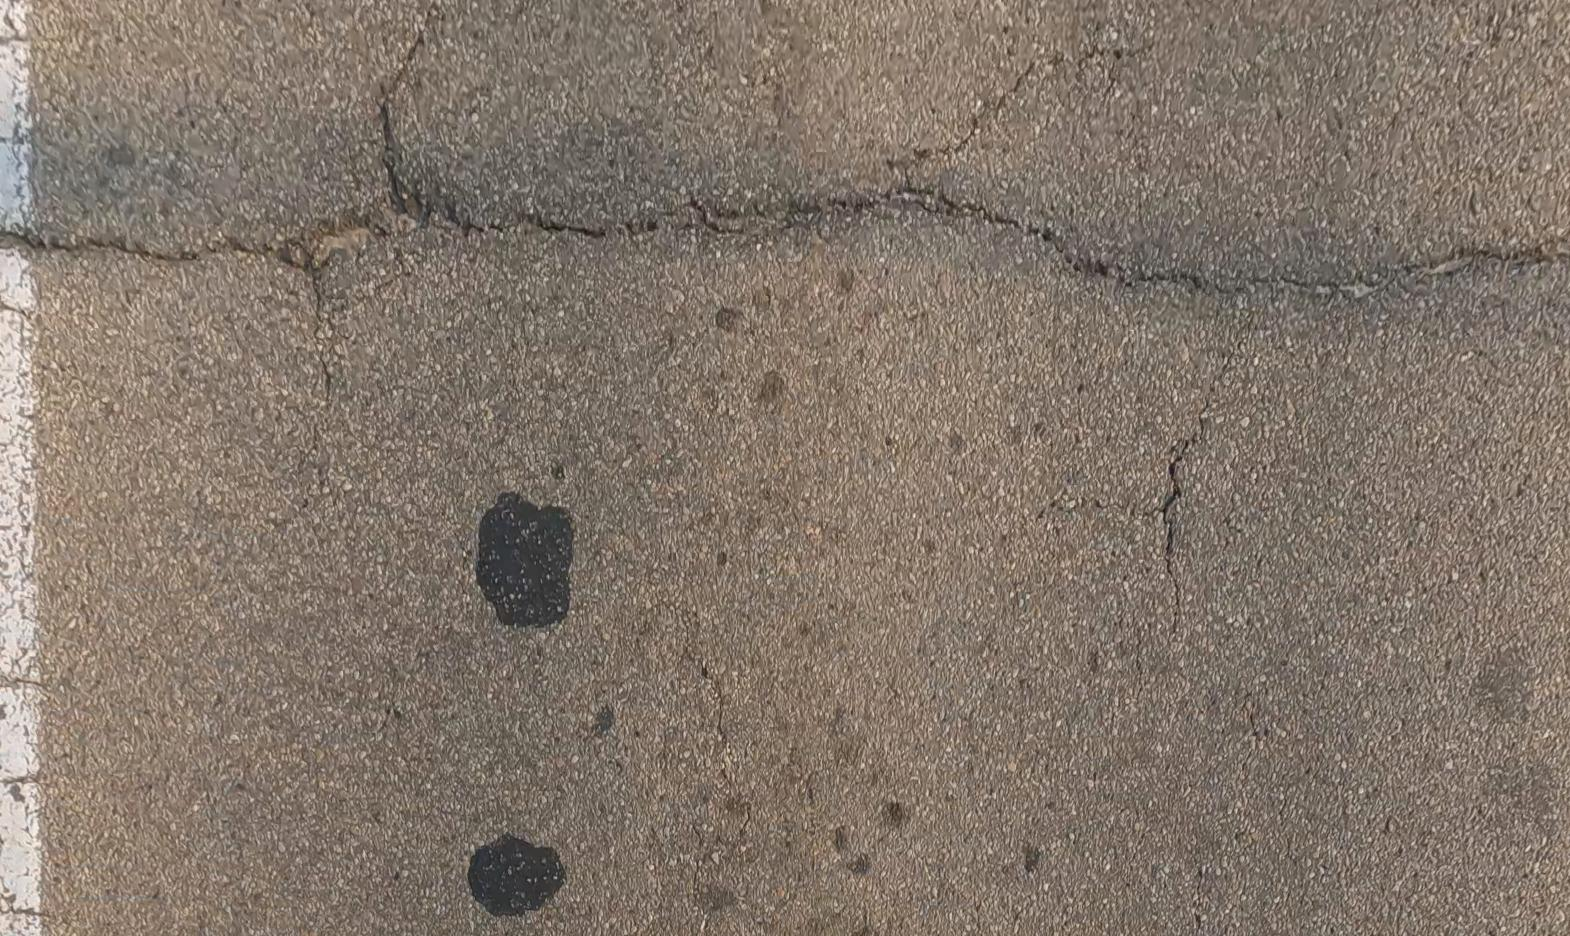pothole: (308, 189, 427, 266)
pothole_patch_good: (476, 493, 573, 625), (467, 833, 565, 916)
